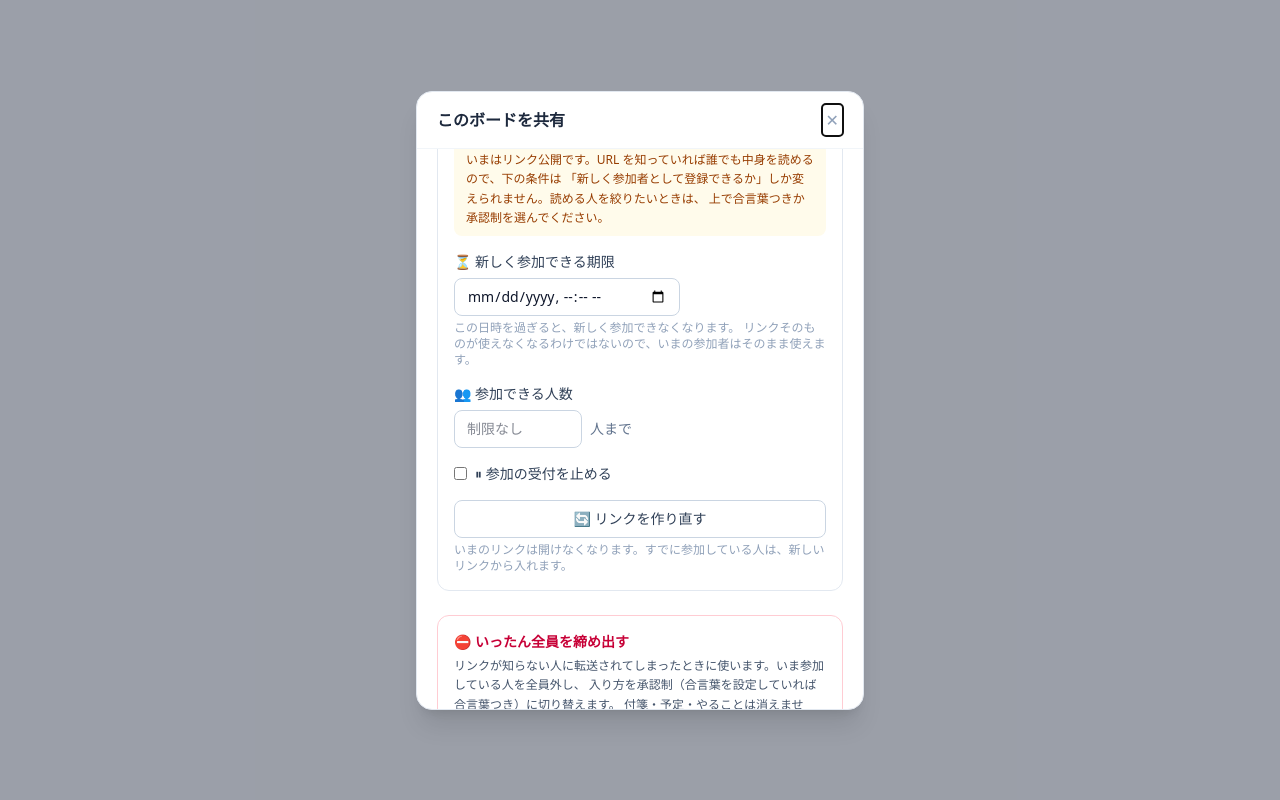
it: ShareModal — 参加できる人数 › 1〜500 の外は保存せず、理由を出す
(page scrolled)
Type "0" into the number field with placeholder "制限なし" at (518,428), box [454,410,582,448]
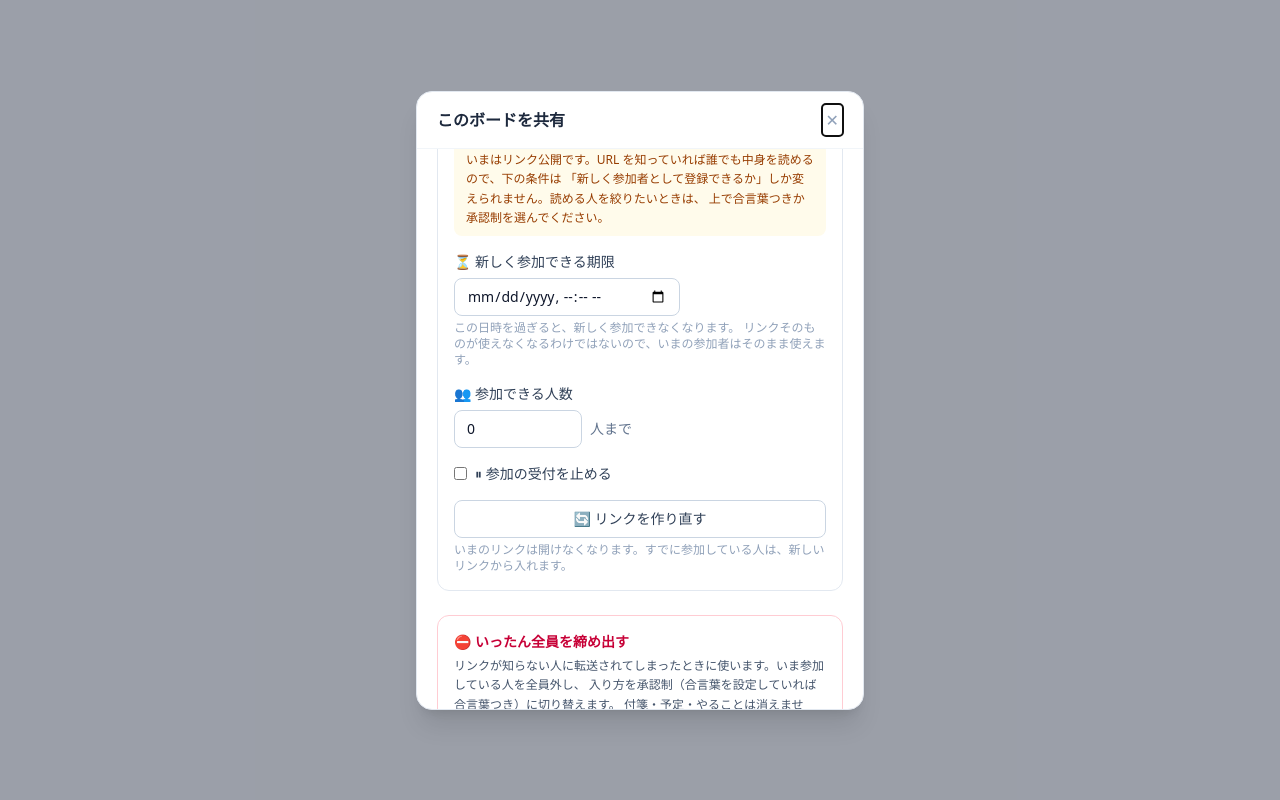
Leave the number field with placeholder "制限なし", box [454,410,582,448]
(page scrolled)
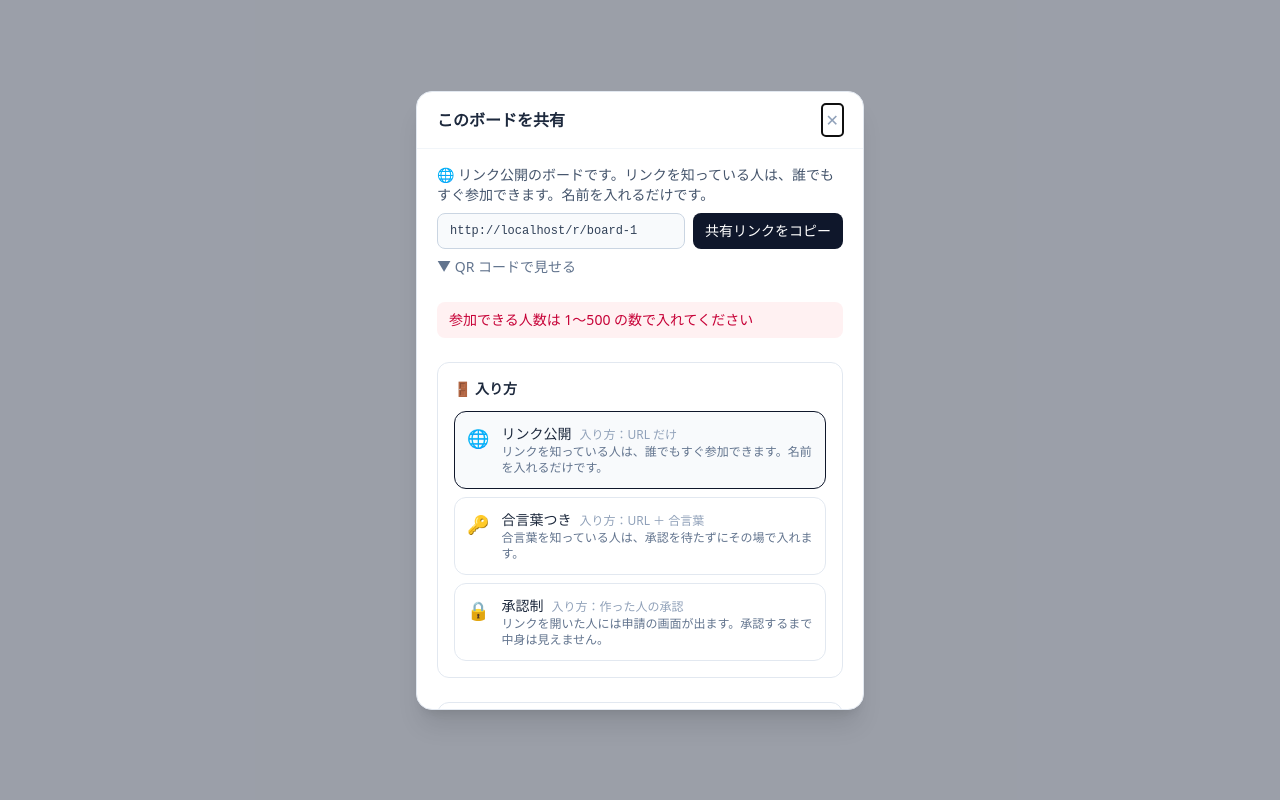
Check: the text "参加できる人数は 1〜500 の数で入れてください" is shown, box [437,302,843,338]
